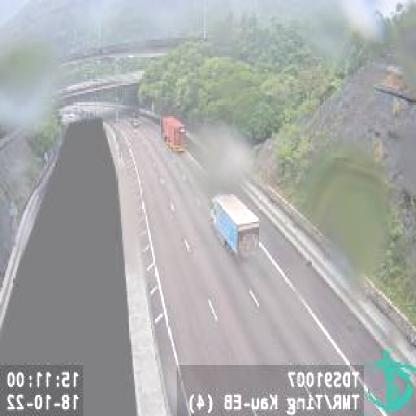Truck: (207, 192, 263, 259), (161, 116, 188, 157)
